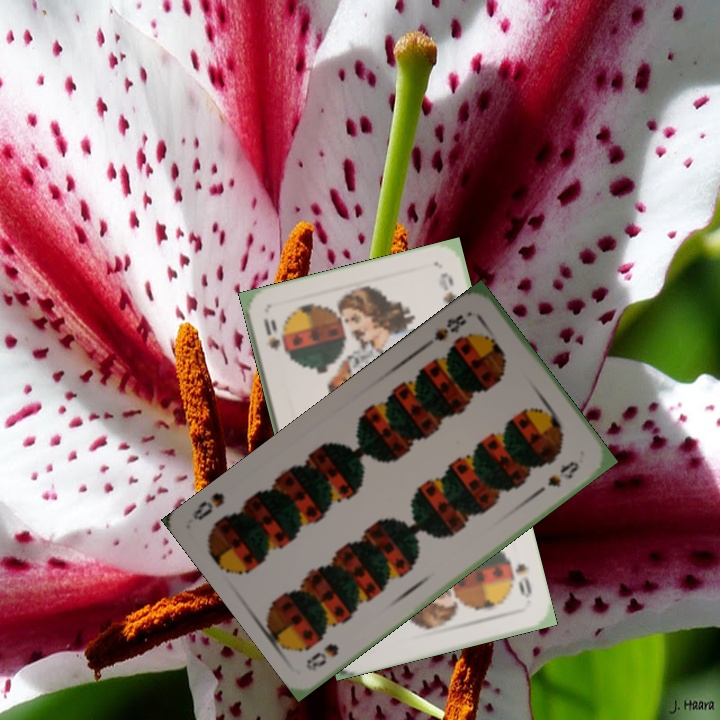S8: (423, 310, 470, 349), (301, 639, 342, 674)
SO: (504, 553, 535, 600), (259, 314, 289, 358)
